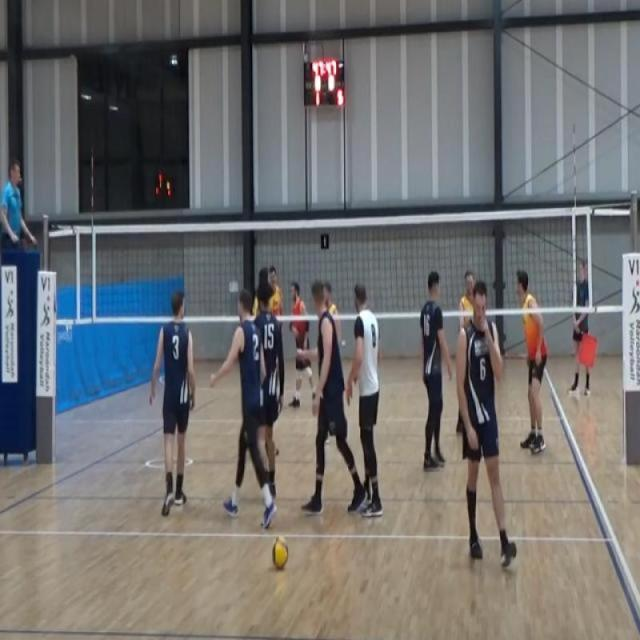volleyball: (269, 532, 290, 572)
